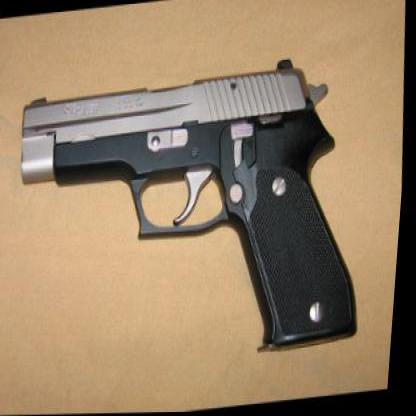pistol: (6, 49, 378, 375)
